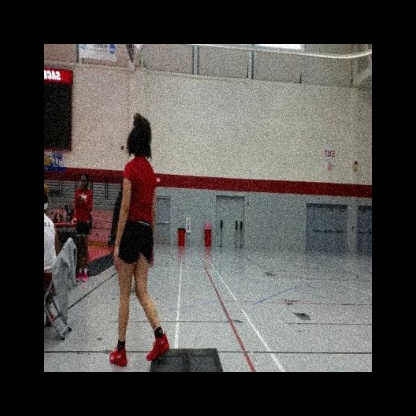lateral_flexion_right: (109, 105, 172, 372)
stance_width_broad: (109, 150, 172, 372)
